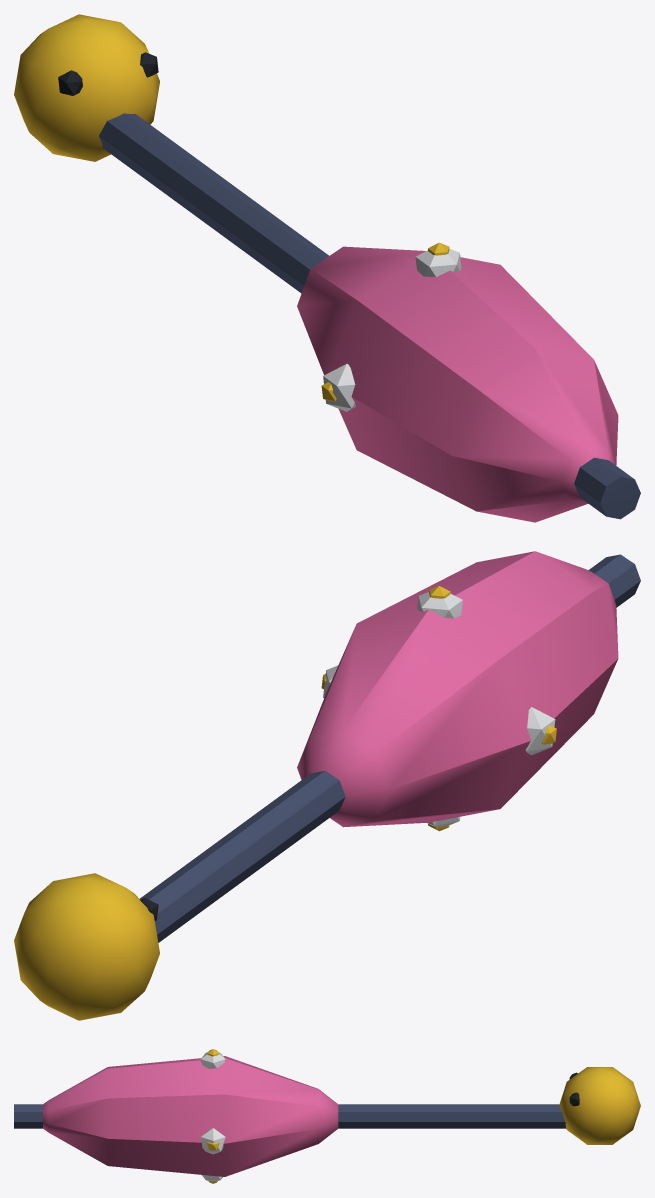
The model's file is w_g_umbrella.glb.
3 renders of one model, top to bottom at view 1: azimuth 30°, elevation 25°; view 2: azimuth 150°, elevation 25°; view 3: azimuth 270°, elevation 25°, orthographic. The views are drawn at different scales.
Parts seen in each view (by area): view 1: body; view 2: body; view 3: body.
Boxes of the visible parts, box(x1,y1,x2,y2) form: body: box(14, 14, 640, 522); body: box(14, 551, 640, 1020); body: box(14, 1049, 640, 1183).
Bounding box in the file's own units: 0.2263 × 0.2286 × 0.963.
